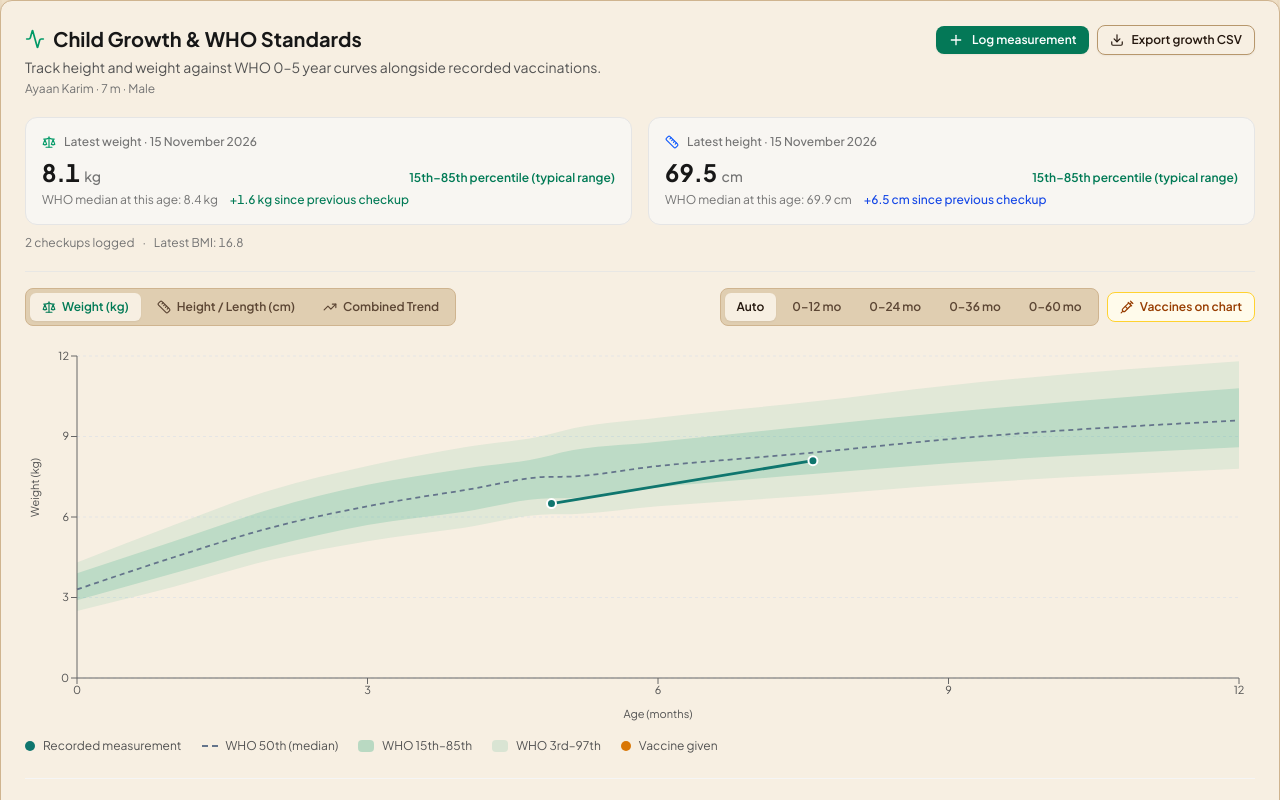
Test: ChildGrowthChart UI component › supports combined trend mode, displays progress deltas & BMI, and edits existing measurements inline
Check: the text "+1.6 kg since previous checkup" is shown, box [230,192,409,208]
Check: the text "+6.5 cm since previous checkup" is shown, box [864,192,1047,208]
# Switch to Combined Trend view
Click the button "Combined Trend".
click(381, 307)  # box [311,293,451,321]
(page scrolled)
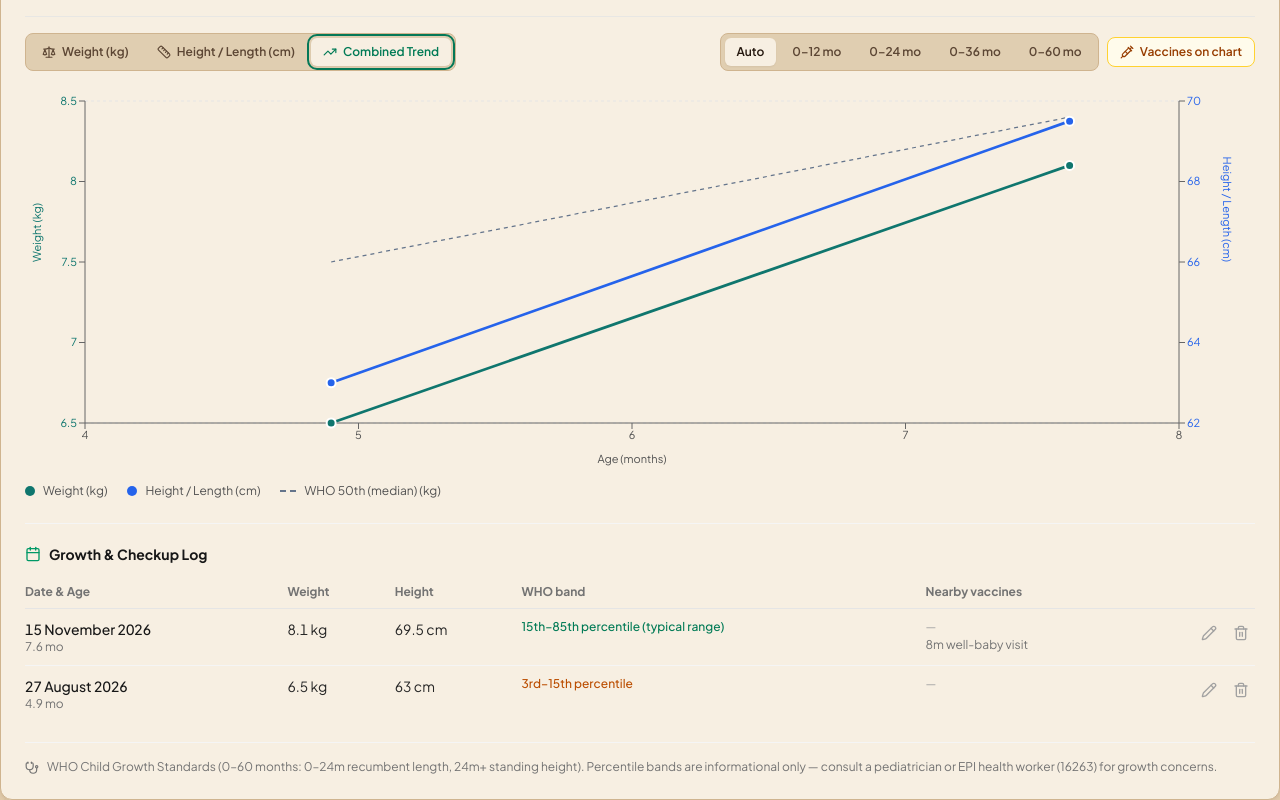
Check: the button "Combined Trend" is pressed, box [311,38,451,66]
Click the button named "Edit measurement 15 November 2026".
click(1209, 633)  # box [1195,619,1223,647]
(page scrolled)
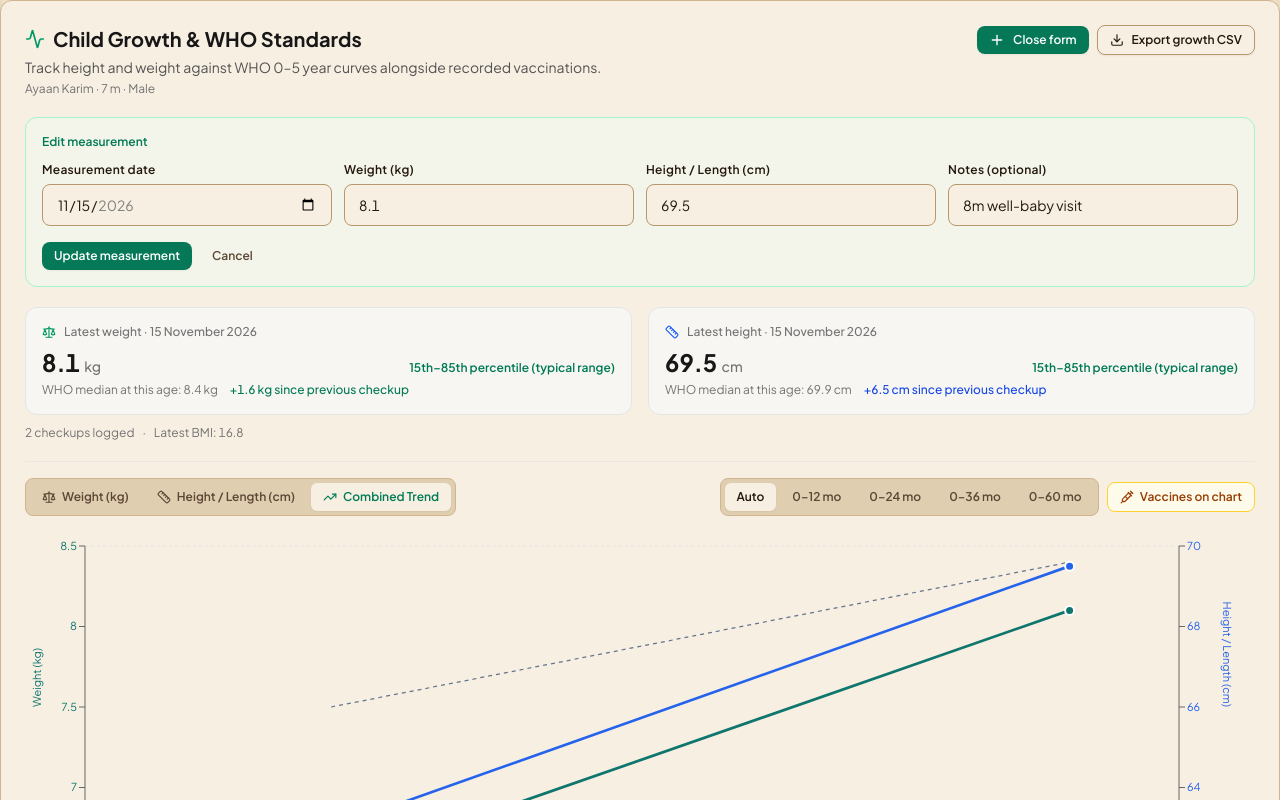
Replace the text in the number field with id "growth-weight" with "8.3" at {"x": 489, "y": 205}, box [344,184,634,226]
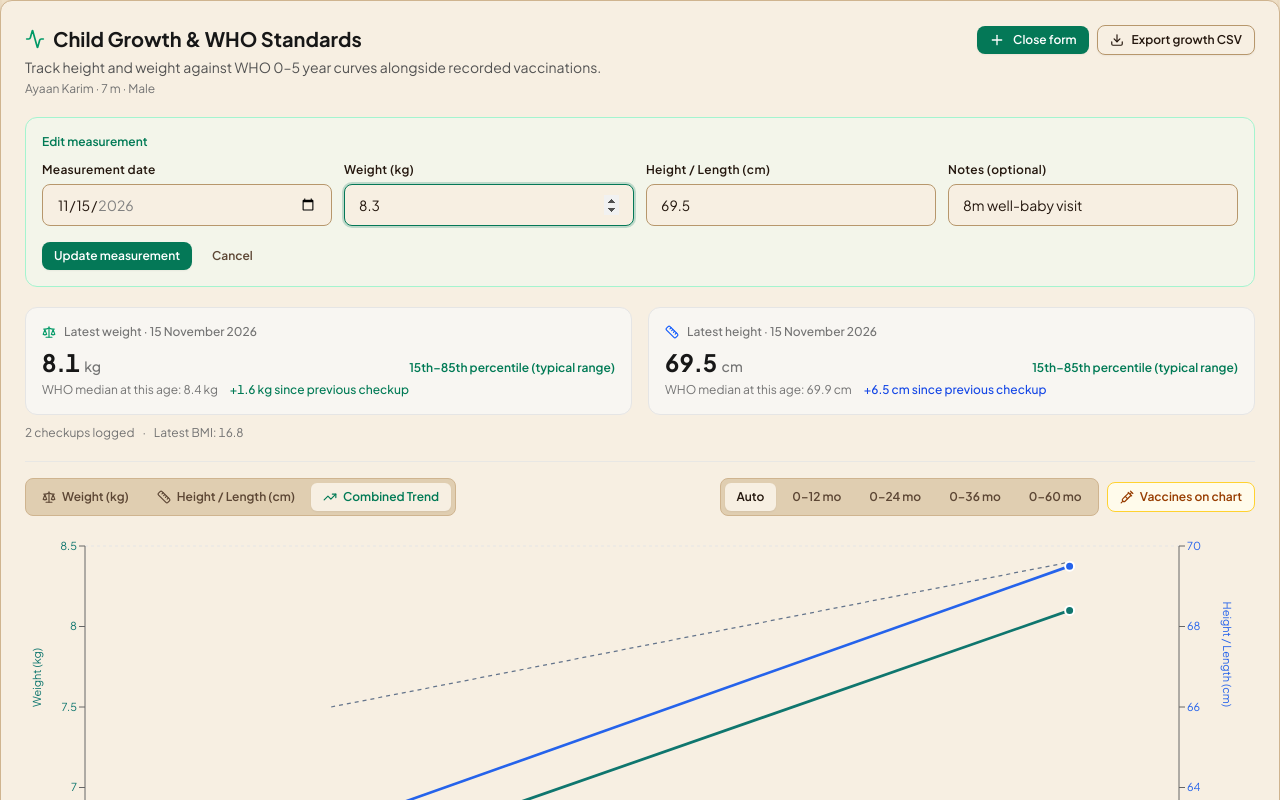
Click the button "Update measurement".
click(117, 256)  # box [42,242,192,270]
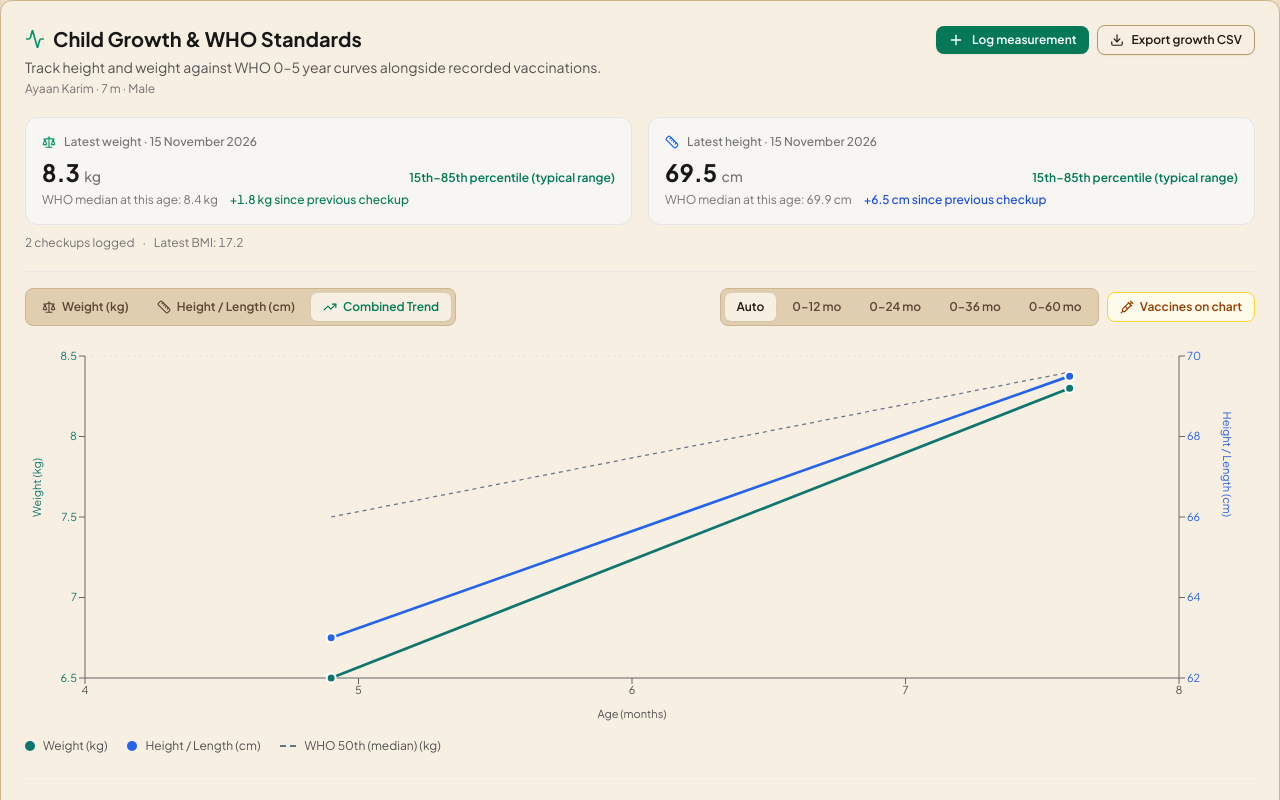
Check: the text "8.3 kg" is shown, box [42,156,101,188]
